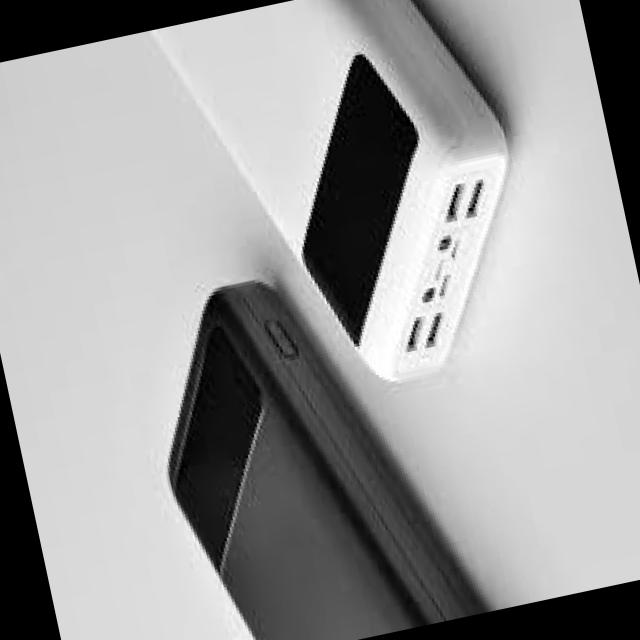power_bank: (145, 0, 553, 411), (128, 247, 488, 640)
